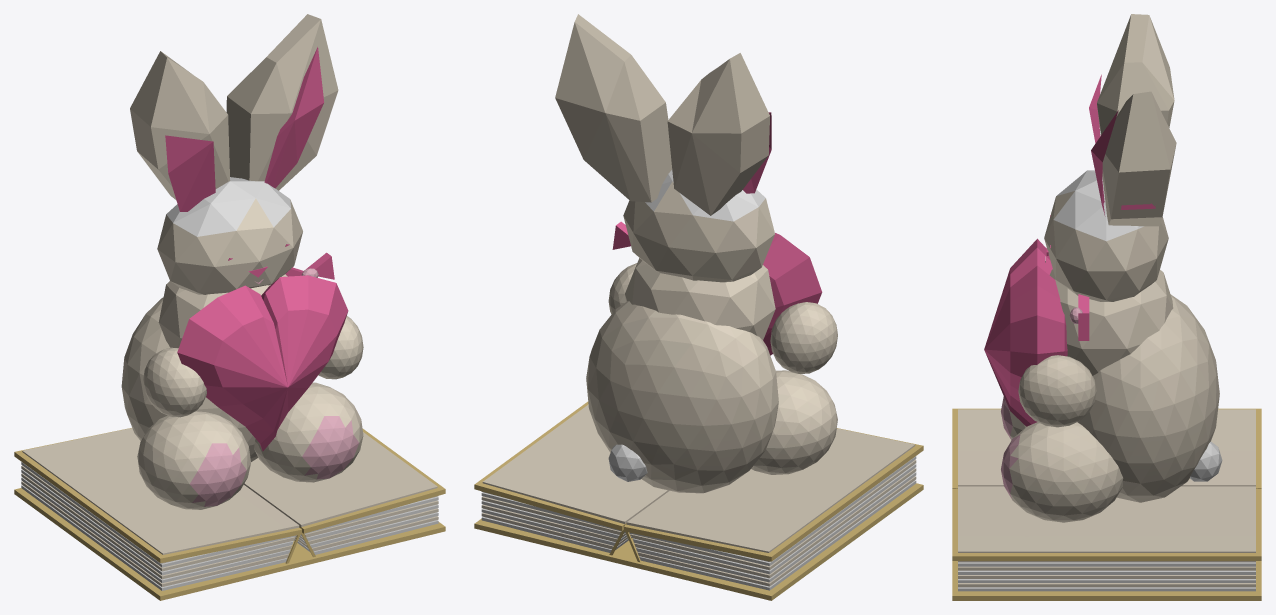
Rendered from bunny-heart.glb.
3 renders of one model, left to right at view 1: azimuth 30°, elevation 25°; view 2: azimuth 150°, elevation 25°; view 3: azimuth 270°, elevation 25°, orthographic. The views are drawn at different scales.
Parts seen in each view (by area): view 1: root_mesh, heart_mesh, ears1_mesh, ears0_mesh; view 2: root_mesh, ears1_mesh, ears0_mesh, heart_mesh; view 3: root_mesh, ears1_mesh, heart_mesh, ears0_mesh.
Boxes of the visible parts, <box> form: root_mesh: <box>14,177,445,600</box>; heart_mesh: <box>177,275,348,451</box>; ears1_mesh: <box>226,14,338,190</box>; ears0_mesh: <box>130,51,230,211</box>; root_mesh: <box>474,170,923,600</box>; ears1_mesh: <box>555,14,672,202</box>; ears0_mesh: <box>667,53,771,215</box>; heart_mesh: <box>763,233,822,355</box>; root_mesh: <box>952,170,1261,600</box>; ears1_mesh: <box>1091,91,1176,226</box>; heart_mesh: <box>984,238,1067,426</box>; ears0_mesh: <box>1089,14,1174,143</box>.
Size of the model in its own units: 6.5 by 10 by 5.76.
